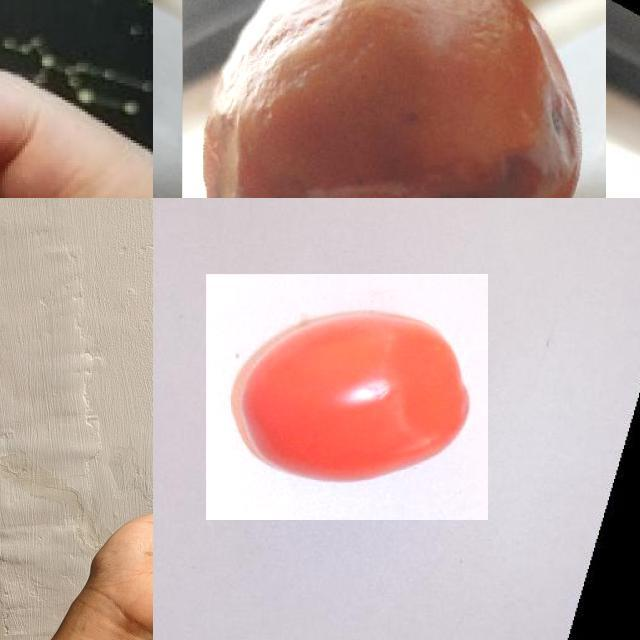Fresh Tomato: (206, 274, 488, 520)
Rotten Tomato: (182, 0, 605, 198)
